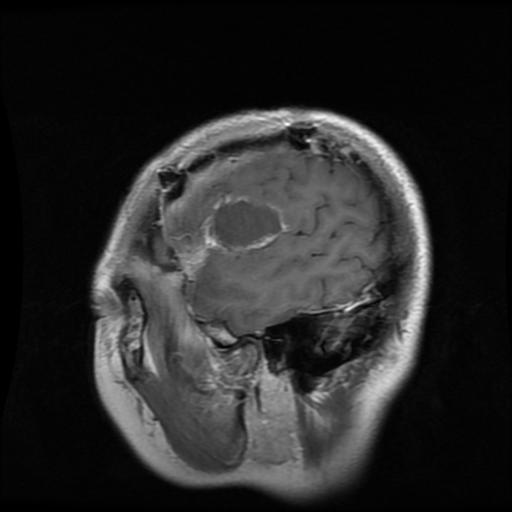Gliomia_tumour: (200, 195, 289, 251)
